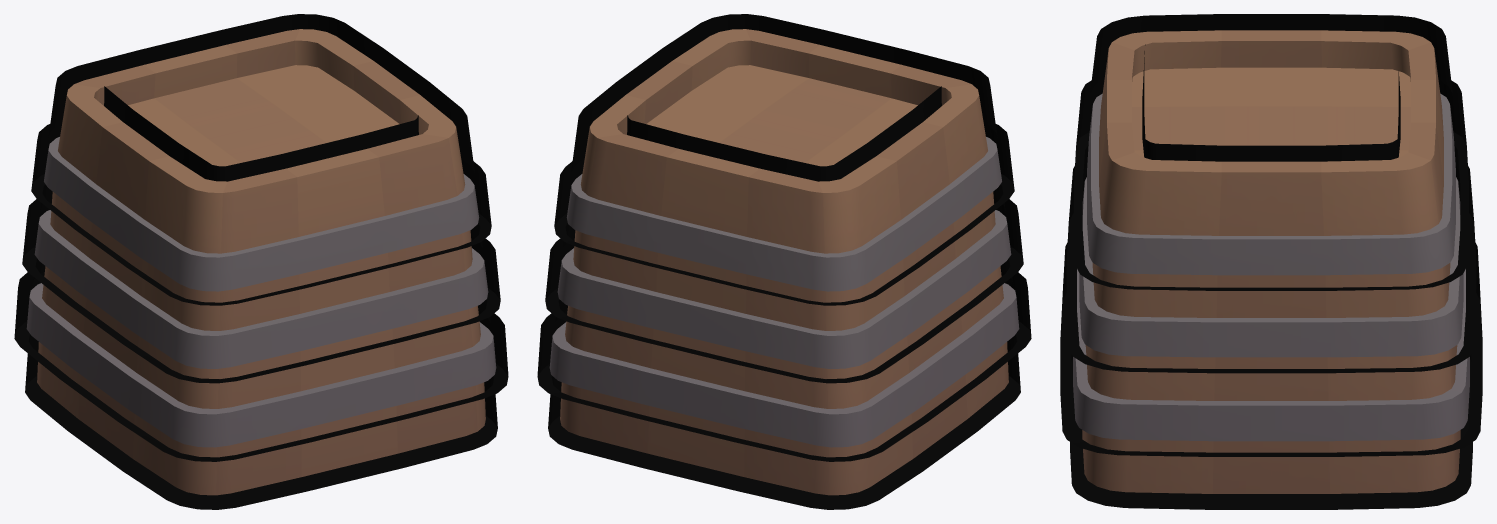
File: archerTower_lvl3_backFaceMesh.fbx
The picture shows the model from 3 angles, left to right: view 1: azimuth 30°, elevation 25°; view 2: azimuth 150°, elevation 25°; view 3: azimuth 270°, elevation 25°; orthographic projection. The views are drawn at different scales.
Parts seen in each view (by area): view 1: archerTower_lvl3, archerTower_lvl3_backFace; view 2: archerTower_lvl3, archerTower_lvl3_backFace; view 3: archerTower_lvl3, archerTower_lvl3_backFace.
Boxes of the visible parts, left/top/right/bottom form: archerTower_lvl3: left=26, top=29, right=496, bottom=495; archerTower_lvl3_backFace: left=14, top=14, right=508, bottom=509; archerTower_lvl3: left=549, top=29, right=1019, bottom=495; archerTower_lvl3_backFace: left=537, top=14, right=1031, bottom=509; archerTower_lvl3: left=1073, top=30, right=1469, bottom=493; archerTower_lvl3_backFace: left=1060, top=14, right=1482, bottom=509.
Bounding box in the file's own units: 165 × 142 × 162.
